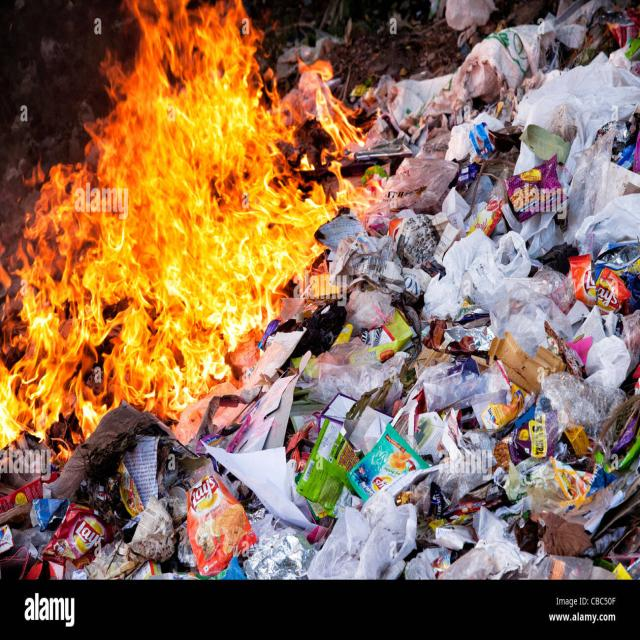fire: (80, 0, 268, 430), (0, 161, 191, 475), (268, 58, 401, 319)
